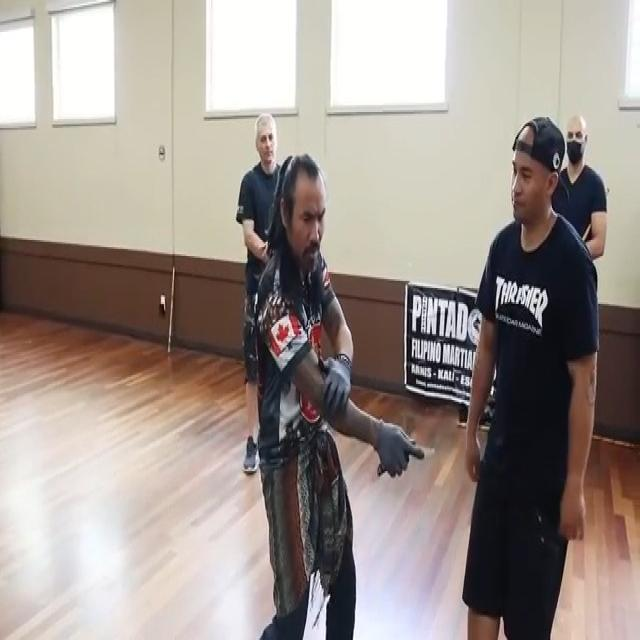Sharp-Object: (376, 439, 436, 481)
